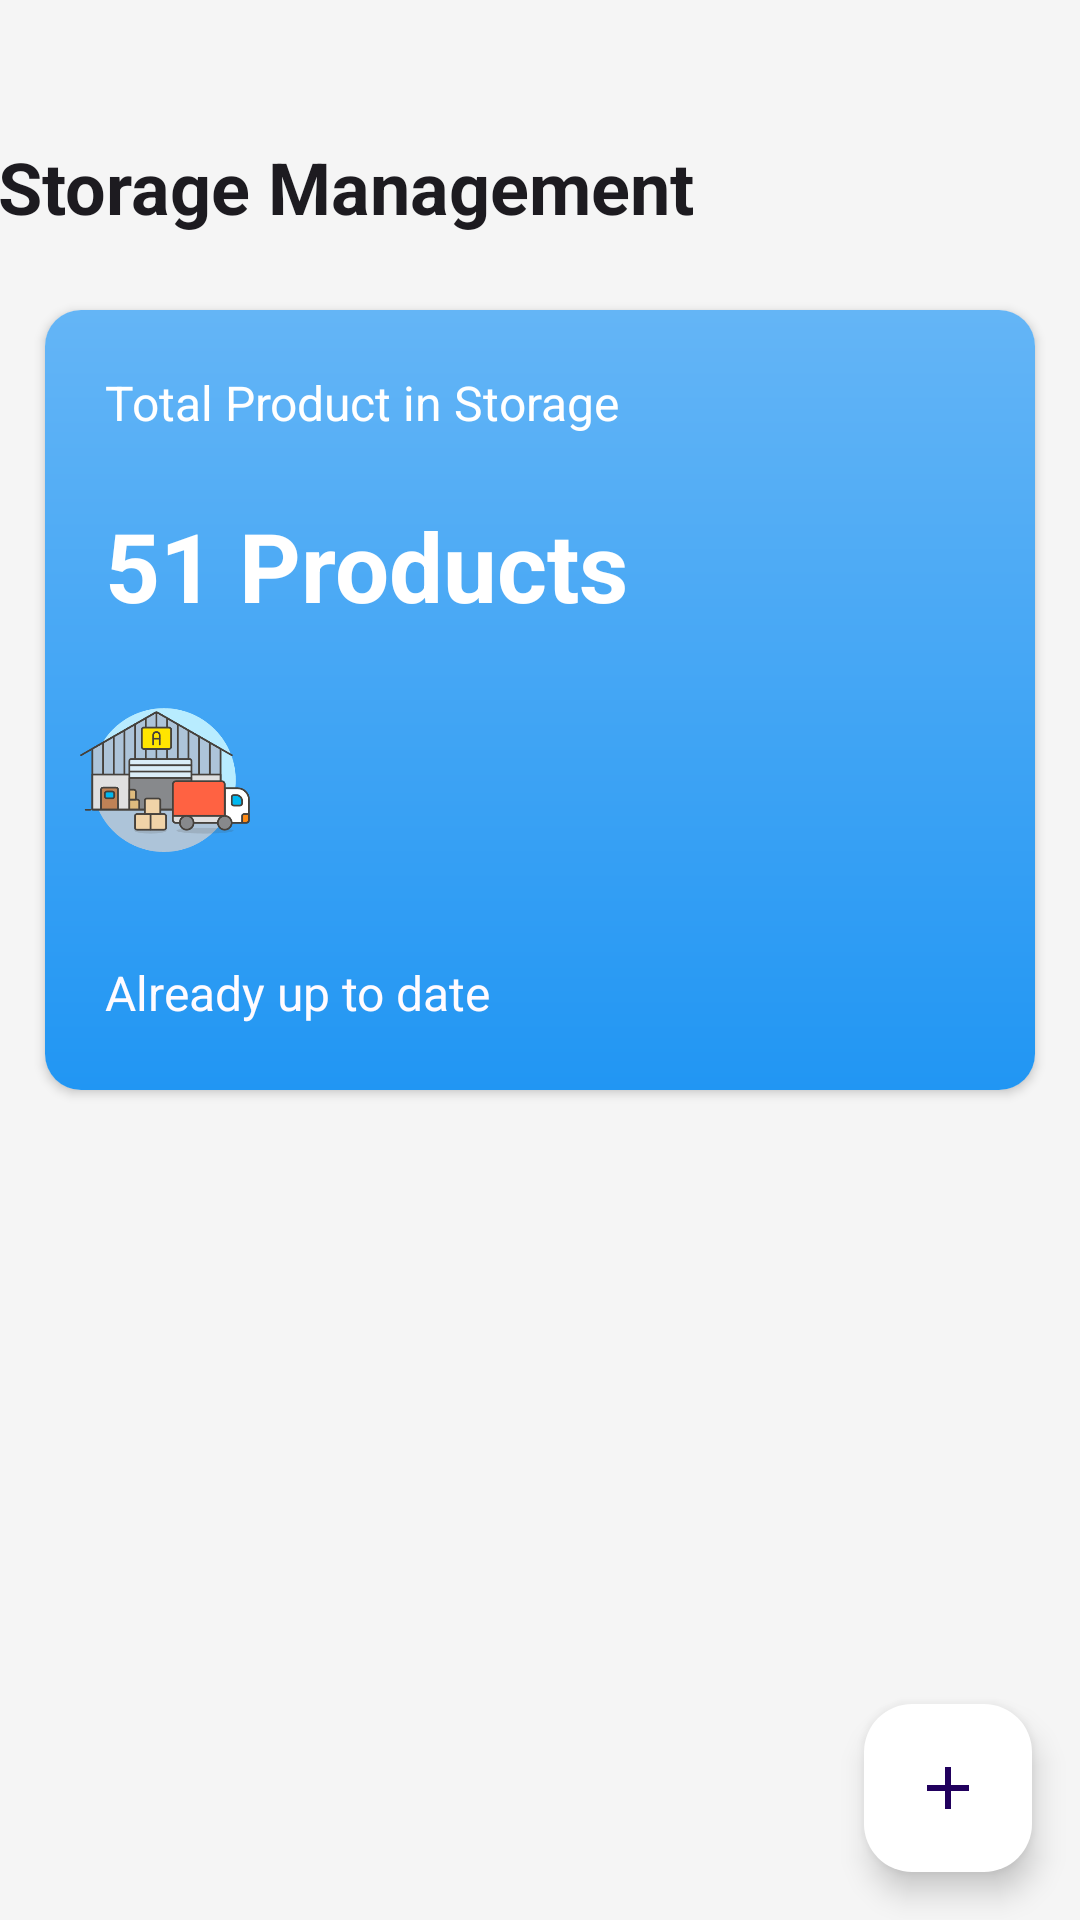

Screen size 1080*1920. Icon name, then its box in pixels as (x1, y1, x2, y2):
add: (864, 1704, 1032, 1872)
storage: (80, 708, 250, 852)
